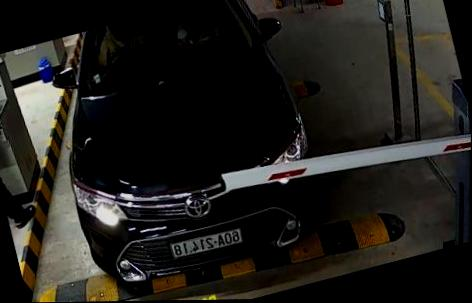License_Plate: (171, 227, 245, 259)
